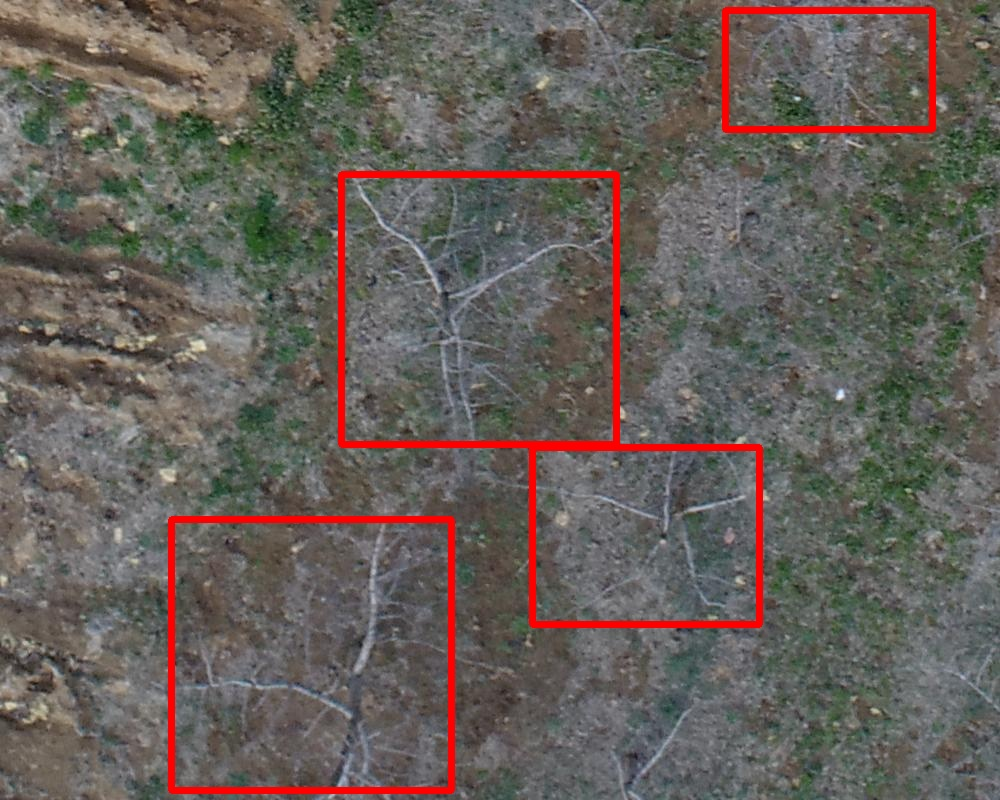apple: (171, 519, 451, 790), (341, 174, 616, 444), (532, 447, 759, 624), (725, 10, 932, 129)
